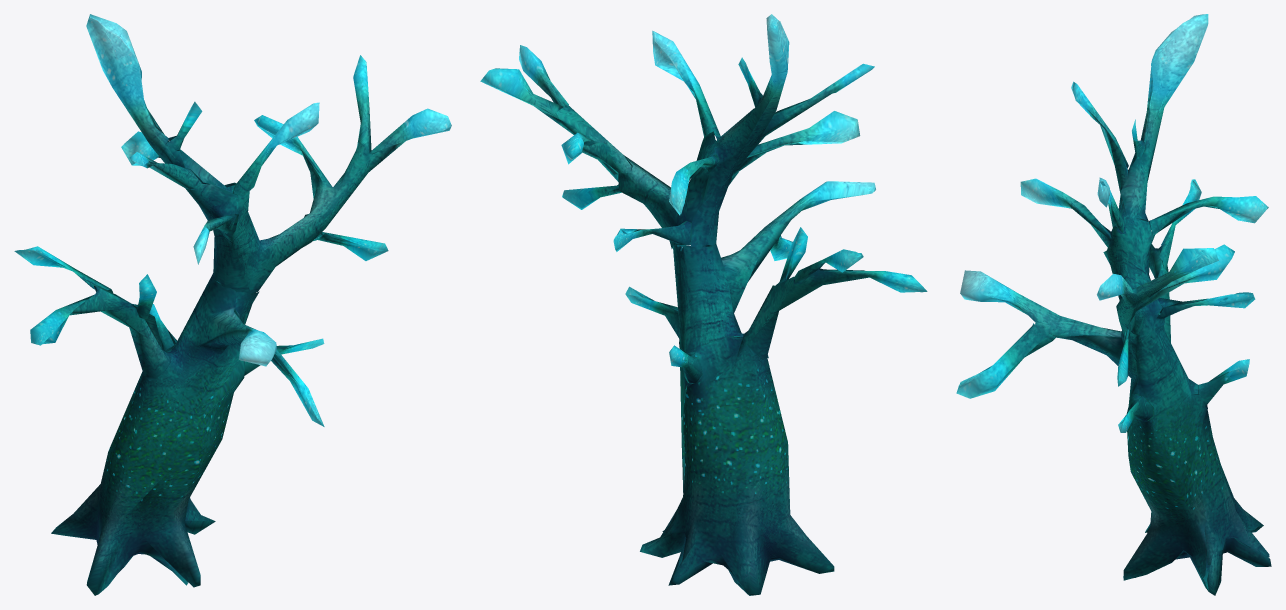
File: PneumaTree.glb
The picture shows the model from 3 angles, left to right: view 1: azimuth 30°, elevation 25°; view 2: azimuth 150°, elevation 25°; view 3: azimuth 270°, elevation 25°; orthographic projection. The views are drawn at different scales.
Visible parts, largest first — view 1: model_14; view 2: model_14; view 3: model_14.
Boxes of the visible parts, x1,y1,x2,y2 form: model_14: (14,14,451,595); model_14: (480,14,927,595); model_14: (956,14,1271,595).
Size of what is drawn, in the model's own units: 2.97 by 3.86 by 2.06.
1 material, 1 textured.
